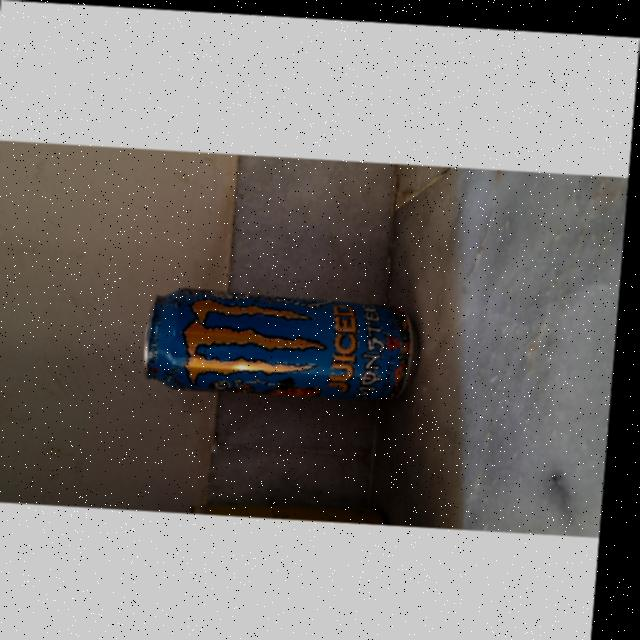Monster Mango Loco: (140, 284, 428, 402)
Redbull Yellow Edition: (184, 484, 403, 520)
